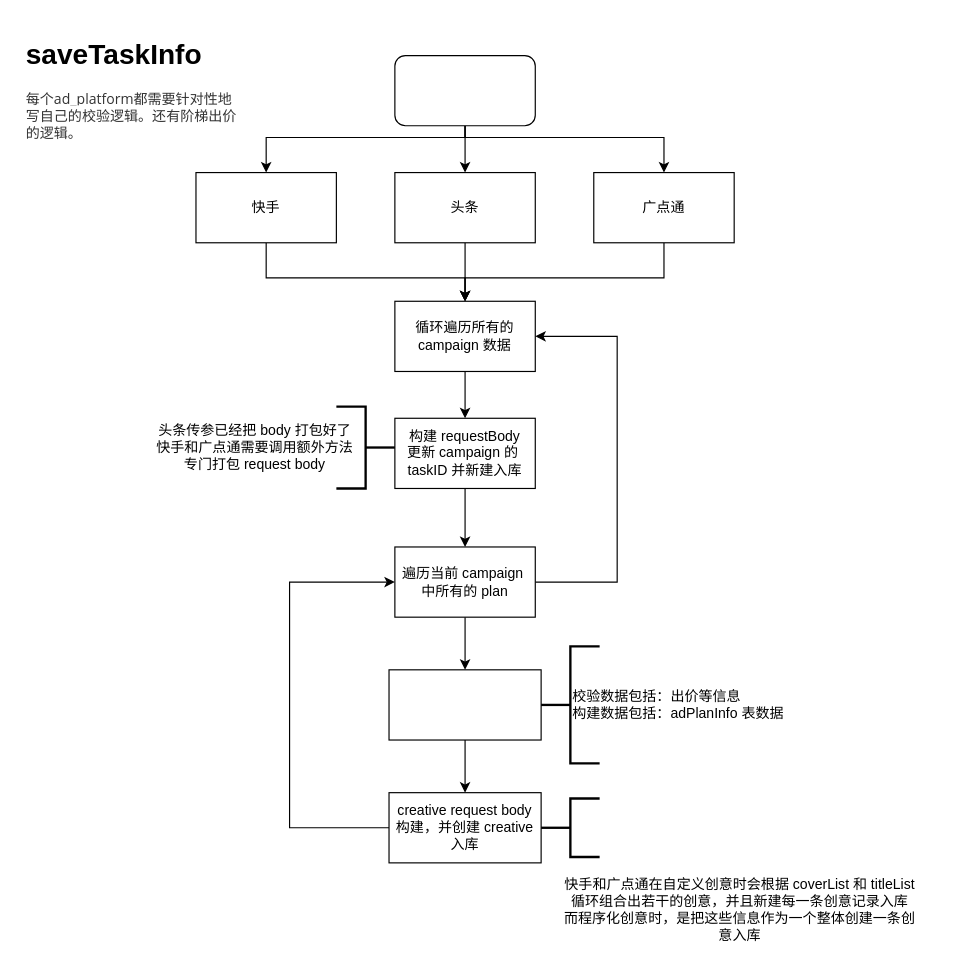
Some shapes in this 972 by 963 pixel diagram are drawn without their labels. The box of each missing label's shape, as (x1, y1, x2, y2) in pixels:
plan 数据校验 plan 数据构建 plan request body 构建 plan 数据入库: (388, 669, 541, 740)
开始: (394, 54, 535, 126)
这部分涉及到创意，创意又分为自定义创意和程序化创意 因此这里在创建的创意数量上是有不同的，具体的不同见 后面单独的创意模块: (539, 797, 600, 858)
